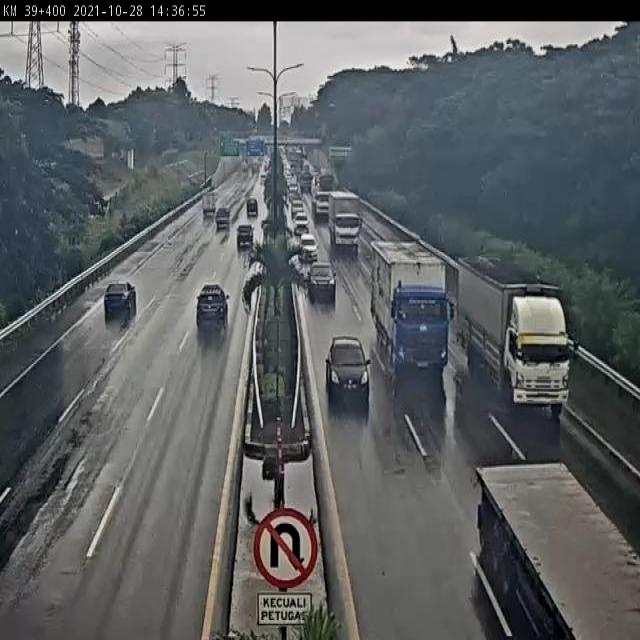Car: (324, 334, 371, 401), (196, 283, 230, 332), (103, 280, 137, 316), (307, 262, 337, 298), (297, 233, 320, 262), (292, 212, 310, 236), (236, 224, 253, 246), (246, 198, 259, 218)
Truck: (472, 459, 639, 640), (454, 250, 580, 414), (371, 235, 456, 376), (328, 189, 364, 253), (310, 190, 330, 220), (215, 207, 231, 232), (202, 190, 218, 213), (299, 172, 313, 193), (319, 173, 335, 188)
